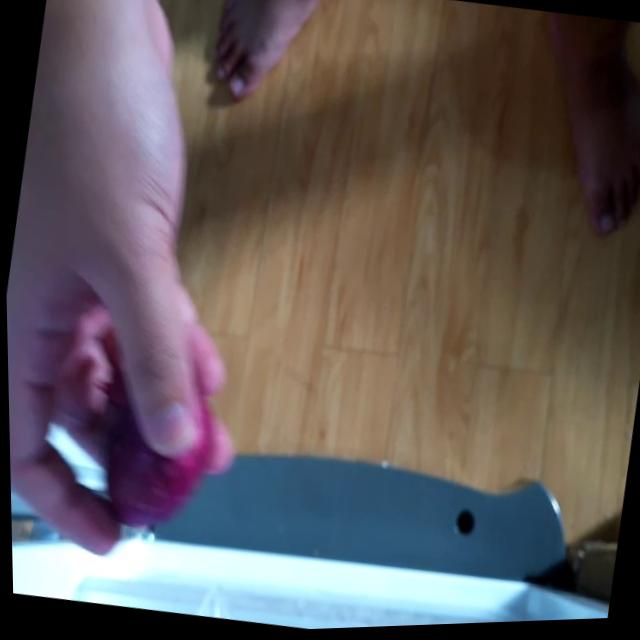onion: (88, 367, 222, 541)
